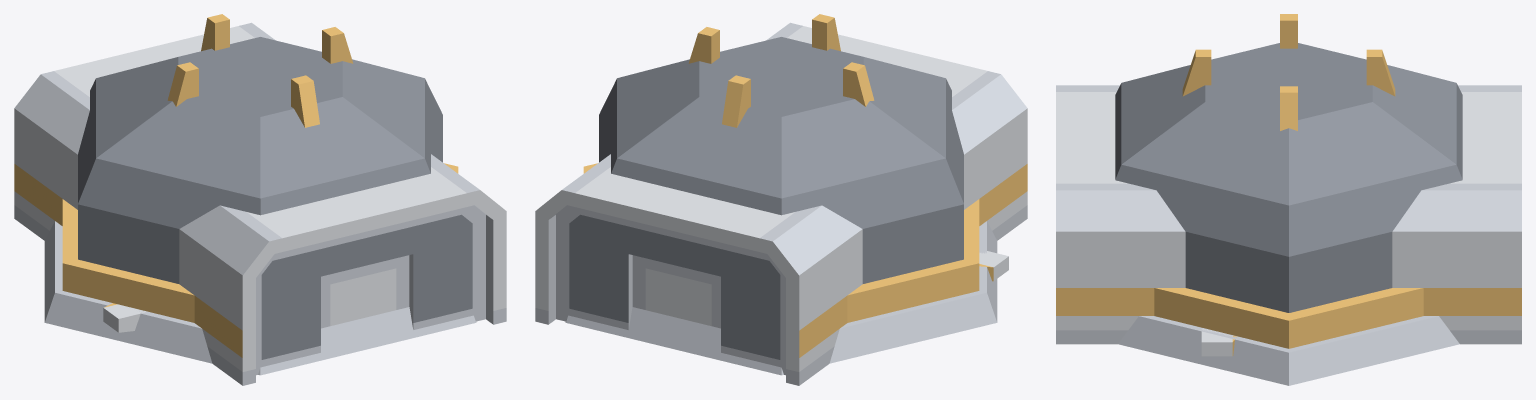
Rendered from lib-space.glb.
3 views of the same model, side by side, from view 1: azimuth 30°, elevation 25°; view 2: azimuth 150°, elevation 25°; view 3: azimuth 270°, elevation 25° (orthographic).
Parts seen in each view (by area): view 1: hangar_roundGlass, hangar_largeA, gate, rocket_baseA, hangar_smallA, craft_speederC; view 2: hangar_roundGlass, hangar_largeA, gate, rocket_baseA, hangar_smallA, craft_speederC; view 3: hangar_roundGlass, hangar_largeA, hangar_smallA, rocket_baseA, craft_speederC.
Part boxes in pixels (x1,y1,x2,y2): hangar_roundGlass: (44, 37, 476, 375); hangar_largeA: (14, 22, 506, 385); gate: (256, 205, 485, 375); rocket_baseA: (167, 14, 353, 127); hangar_smallA: (52, 99, 440, 283); craft_speederC: (103, 303, 147, 332); hangar_roundGlass: (565, 37, 997, 375); hangar_largeA: (535, 22, 1027, 385); gate: (556, 205, 785, 375); rocket_baseA: (688, 14, 874, 127); hangar_smallA: (604, 99, 989, 333); craft_speederC: (979, 251, 1008, 281); hangar_roundGlass: (1115, 43, 1462, 385); hangar_largeA: (1056, 85, 1521, 344); hangar_smallA: (1133, 185, 1444, 320); rocket_baseA: (1182, 14, 1395, 130); craft_speederC: (1201, 328, 1237, 356).
Bounding box in the file's own units: 3.27 × 1.7 × 3.
